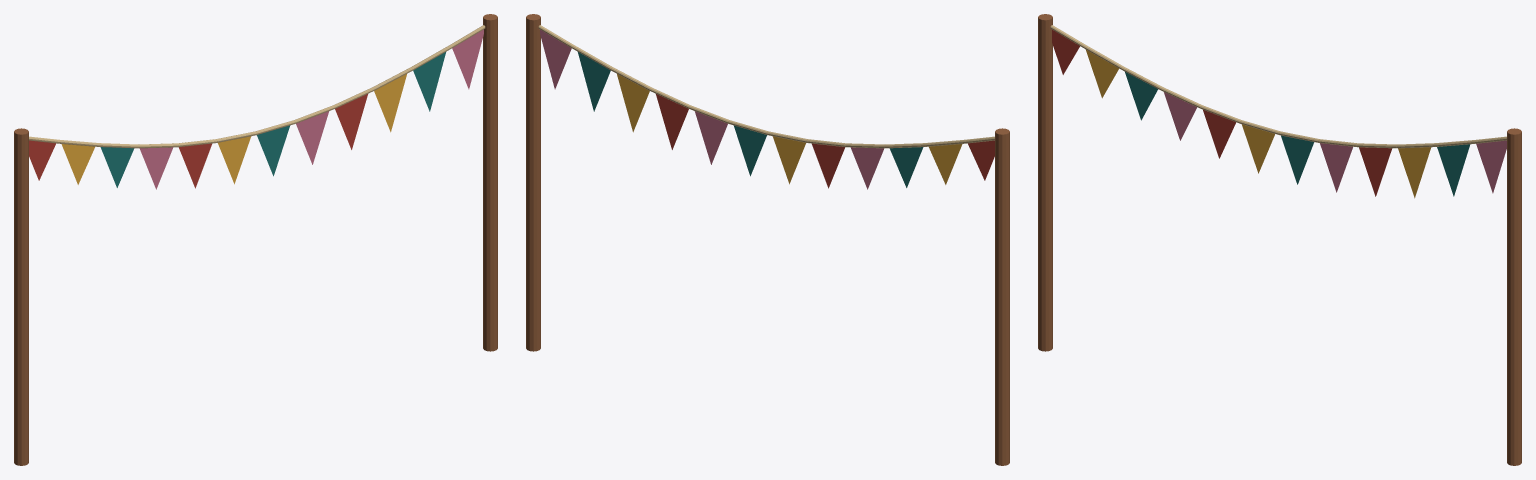
Rendered from 086_pennant_string.glb.
3 views of the same model, side by side, from view 1: azimuth 30°, elevation 25°; view 2: azimuth 150°, elevation 25°; view 3: azimuth 330°, elevation 25° (orthographic).
Parts seen in each view (by area): view 1: Pennant string; view 2: Pennant string; view 3: Pennant string.
Part boxes in pixels (left/top/right/bottom): Pennant string: left=14, top=14, right=497, bottom=465; Pennant string: left=526, top=14, right=1009, bottom=465; Pennant string: left=1038, top=14, right=1521, bottom=465.
Size of the model in its own units: 4.11 by 2.7 by 0.11.
